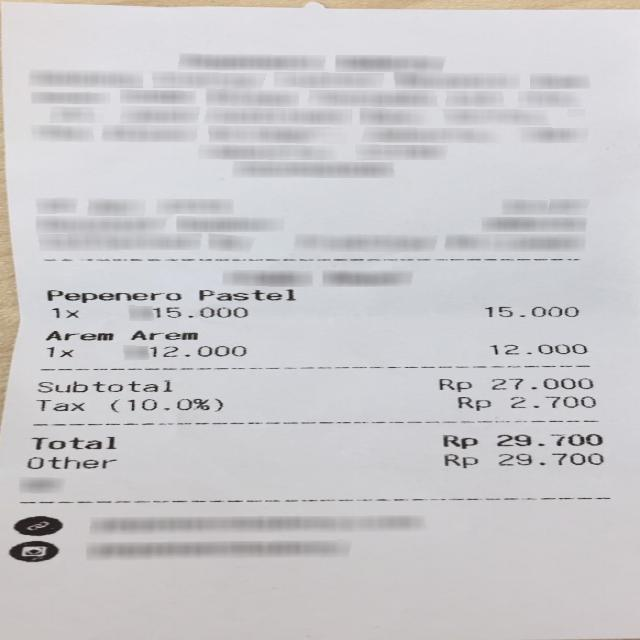text: (45, 288, 179, 302), (36, 379, 170, 392), (497, 451, 603, 465), (492, 433, 600, 446), (488, 376, 592, 389), (109, 398, 220, 410), (508, 394, 595, 408), (197, 288, 295, 300), (488, 342, 584, 353), (26, 456, 114, 468), (147, 346, 243, 356), (152, 306, 246, 316), (32, 436, 110, 448), (484, 306, 576, 316), (43, 329, 110, 340), (130, 330, 194, 339), (35, 398, 83, 409), (440, 434, 476, 448), (442, 453, 475, 467), (456, 396, 488, 410), (436, 378, 469, 390), (51, 307, 80, 318), (46, 346, 72, 356)
